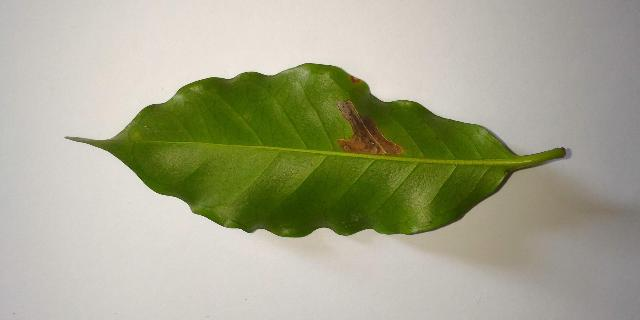cercospora: (337, 100, 403, 155), (349, 74, 363, 84)
